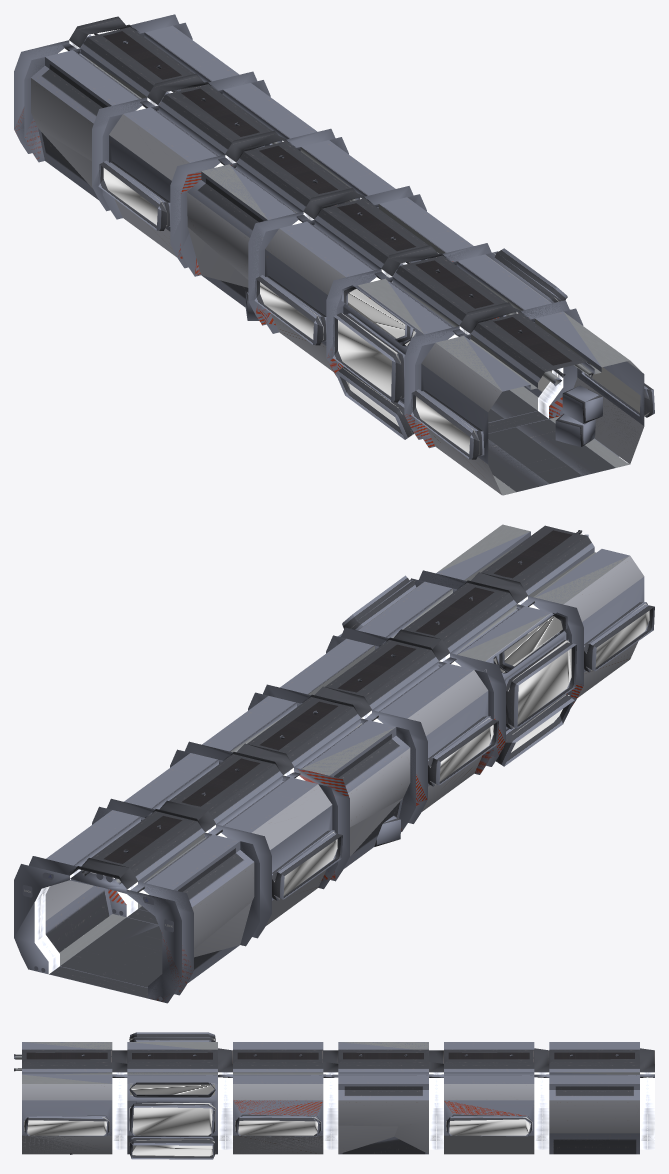
File: tünel-koridor.fbx
3 renders of one model, top to bottom at view 1: azimuth 30°, elevation 25°; view 2: azimuth 150°, elevation 25°; view 3: azimuth 270°, elevation 25°, orthographic. The views are drawn at different scales.
Visible parts, largest first — view 1: š.012; view 2: š.012; view 3: š.012.
Part boxes in pixels (x1,y1,x2,y2): š.012: (14,14,654,495); š.012: (14,524,654,1003); š.012: (14,1032,654,1159).
Size of the model in its own units: 834 by 503 by 3708.
